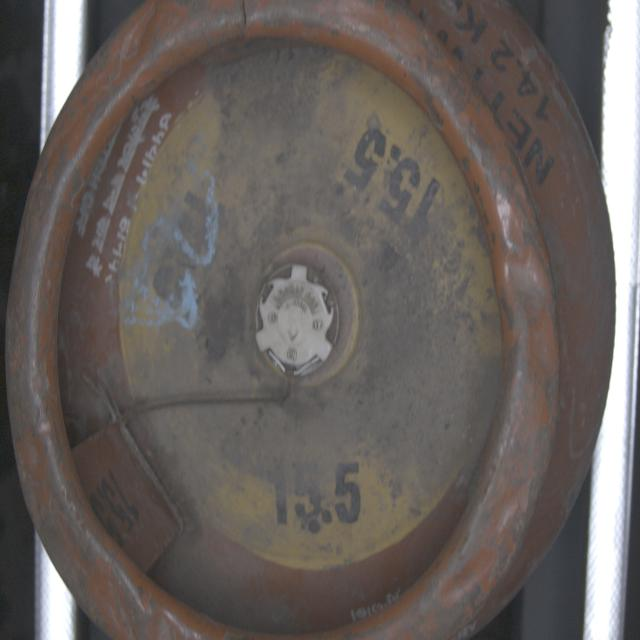Cap: (254, 265, 341, 382)
